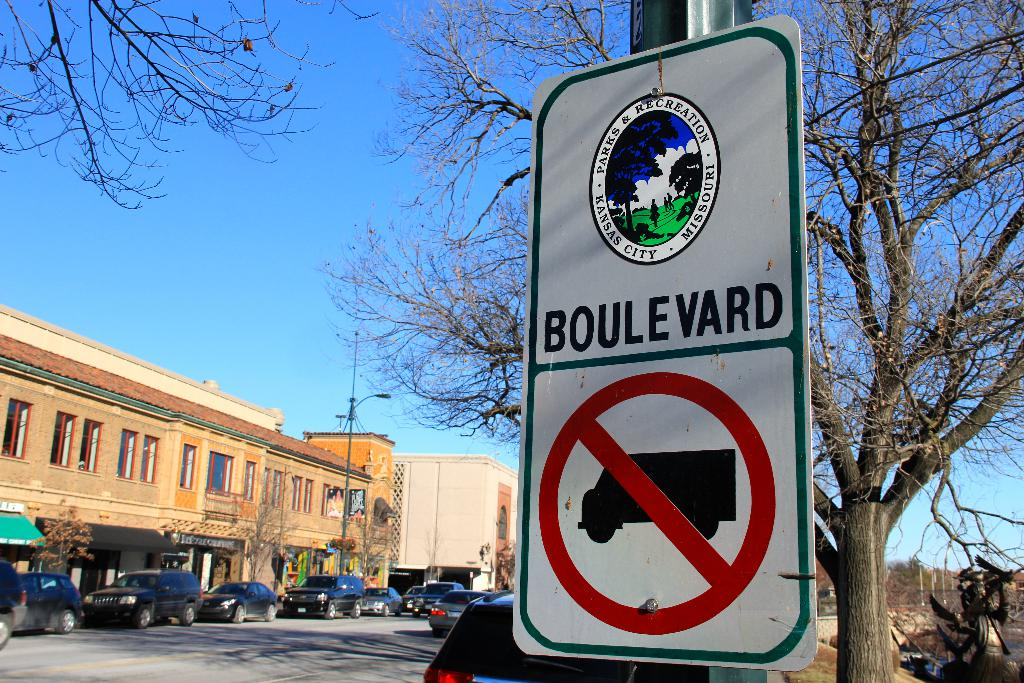no_trucks: (535, 376, 783, 641)
